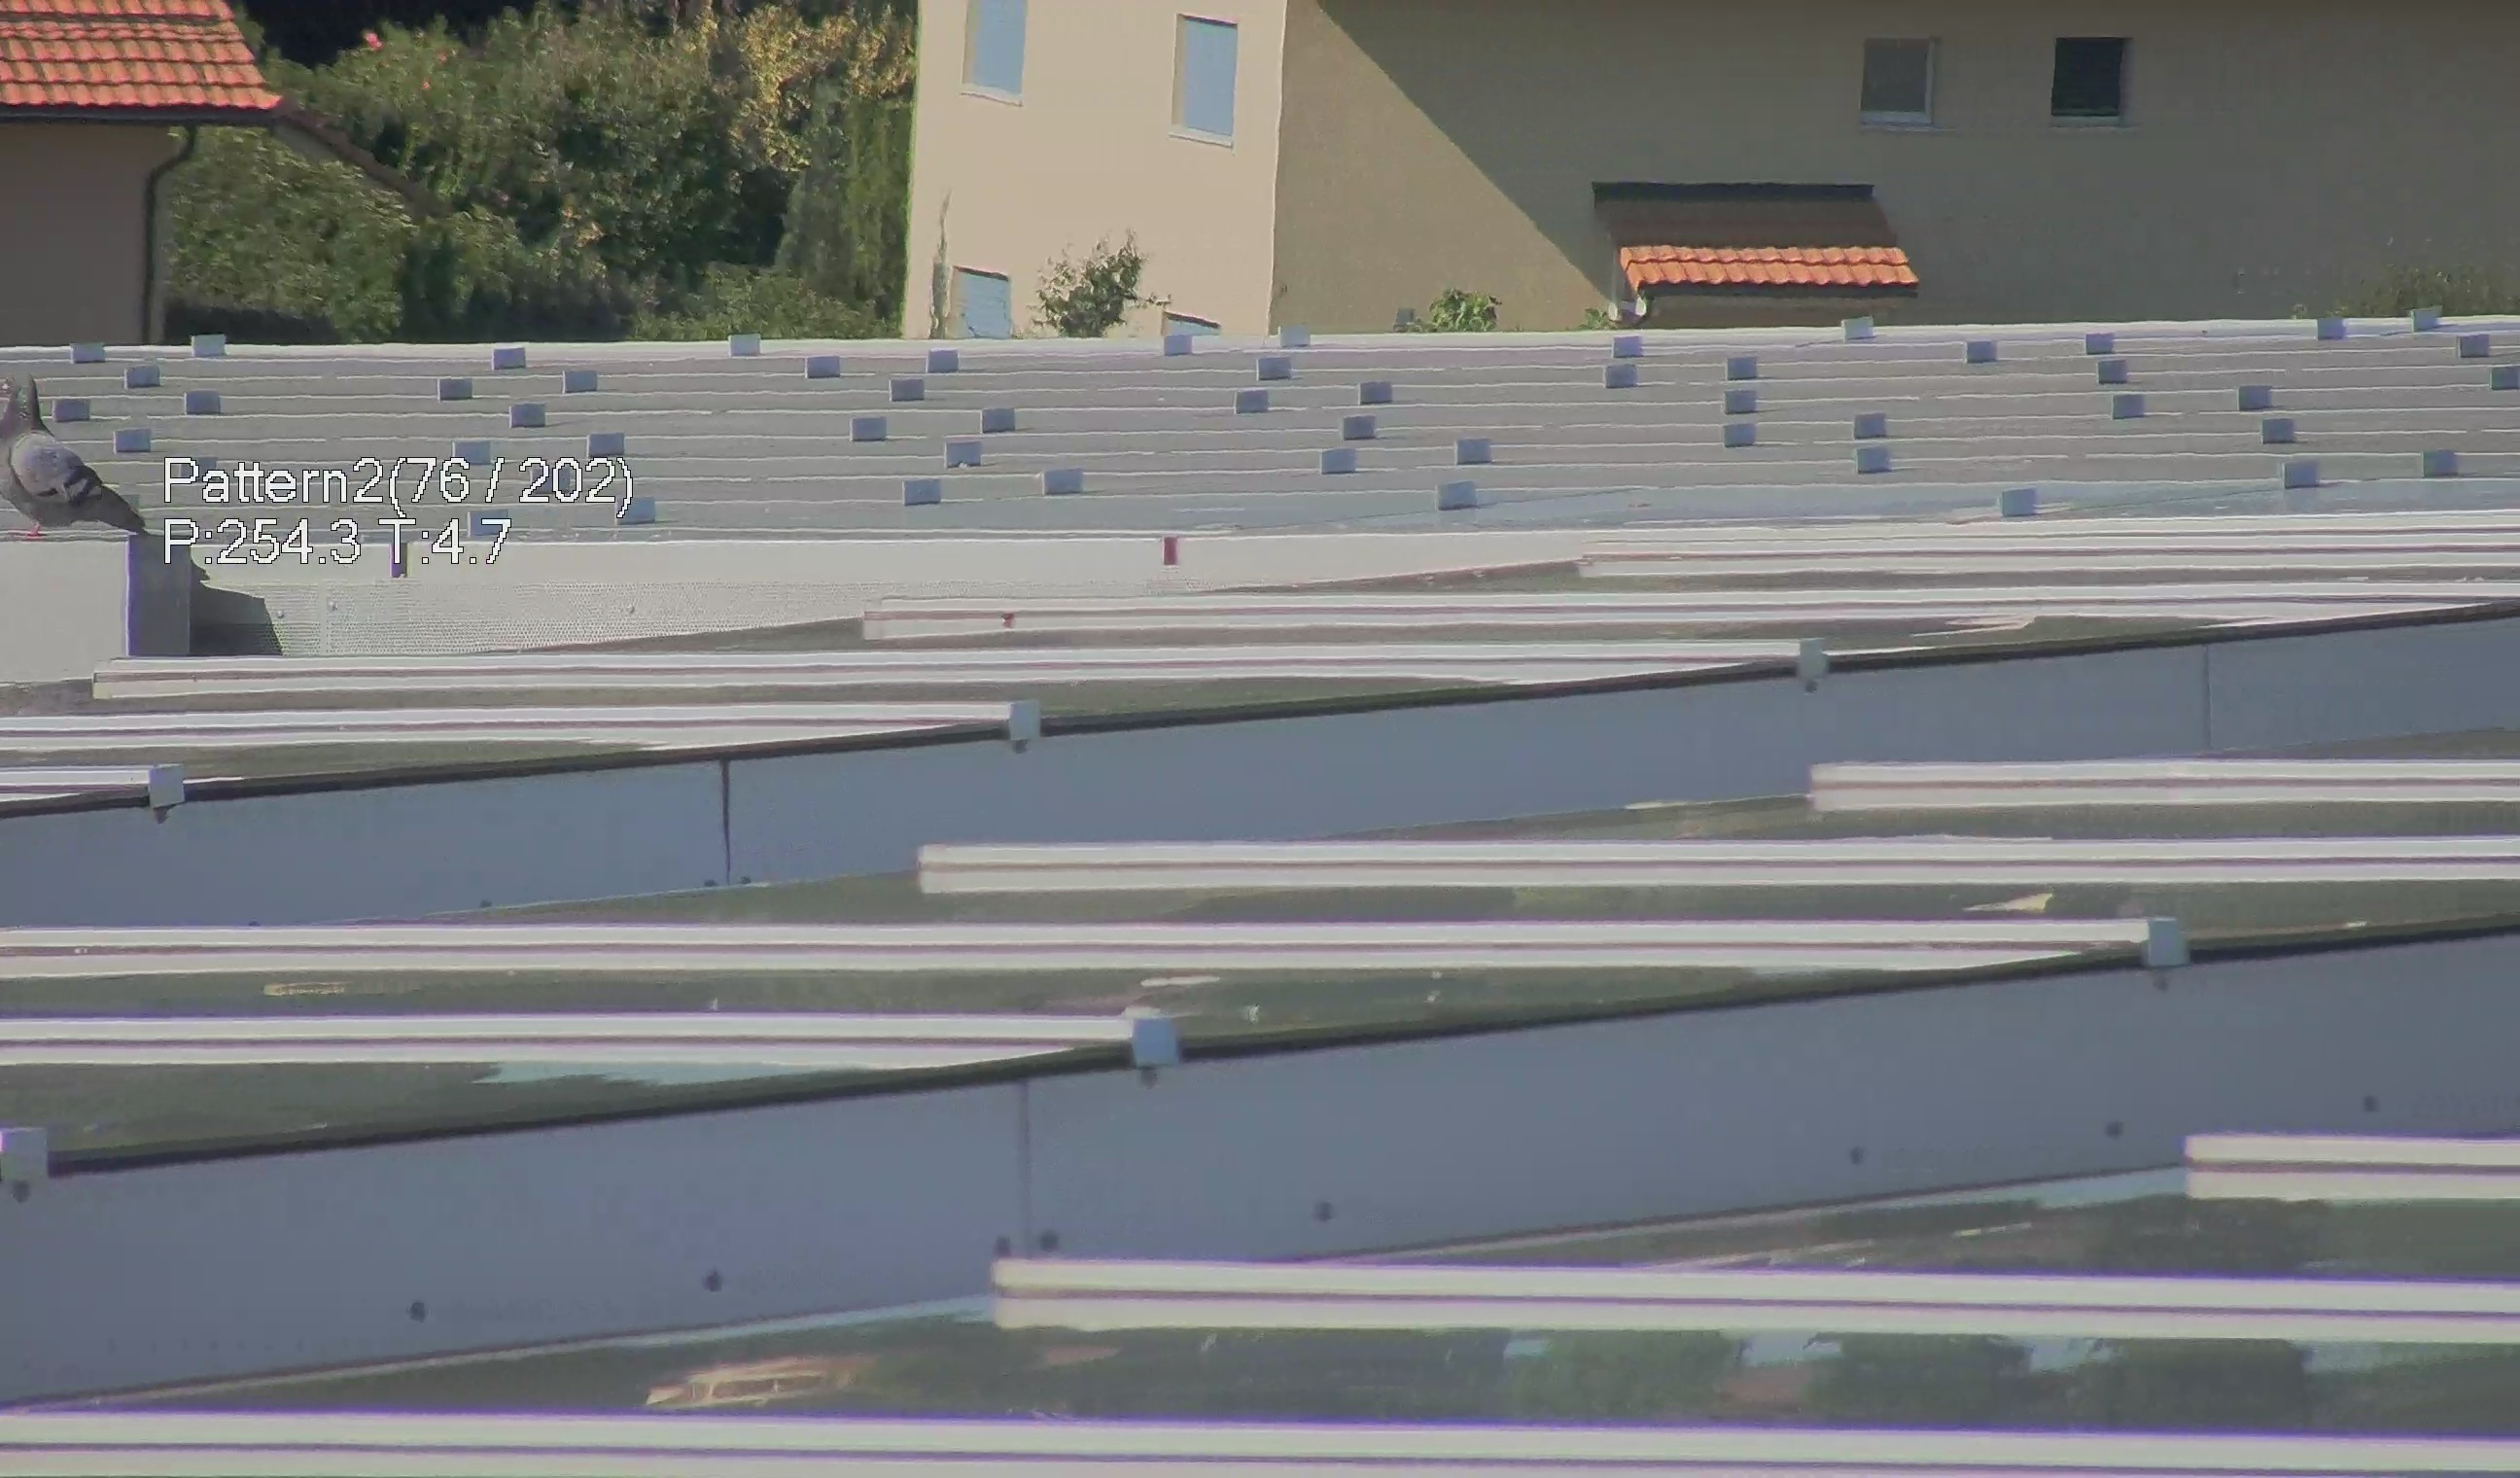Pigeon: (2, 369, 149, 547)
